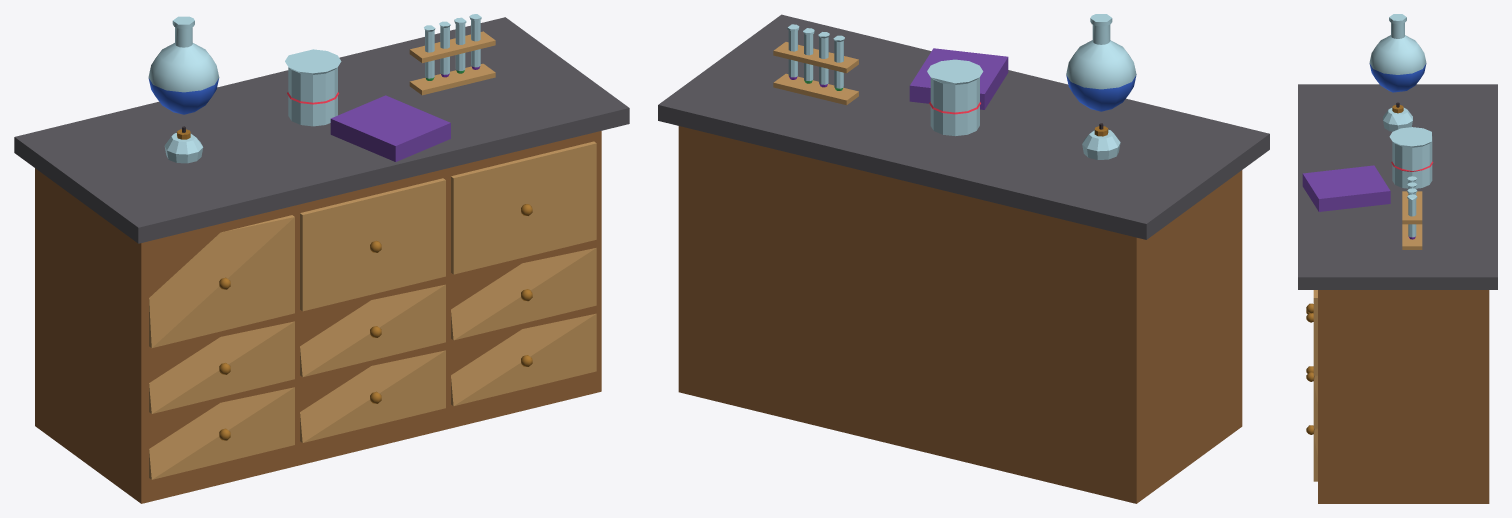
The model's file is lab-bench-pixor.glb.
3 views of the same model, side by side, from view 1: azimuth 30°, elevation 25°; view 2: azimuth 150°, elevation 25°; view 3: azimuth 270°, elevation 25° (orthographic). The views are drawn at different scales.
Visible parts, largest first — view 1: Bench drawers, Bench body, Bench top, Bench book, Bench flask, Bench beaker, Bench tube rack, Bench tubes, Bench knobs, Bench burner; view 2: Bench body, Bench top, Bench flask, Bench beaker, Bench book, Bench tube rack, Bench tubes, Bench burner; view 3: Bench body, Bench top, Bench book, Bench flask, Bench beaker, Bench tube rack, Bench drawers, Bench burner, Bench tubes, Bench knobs.
Part boxes in pixels (x1,y1,x2,y2): Bench drawers: [149, 141, 596, 479]; Bench body: [35, 131, 601, 503]; Bench top: [14, 17, 629, 243]; Bench book: [330, 95, 450, 161]; Bench flask: [148, 16, 219, 114]; Bench beaker: [285, 49, 341, 126]; Bench tube rack: [409, 31, 495, 95]; Bench tubes: [424, 14, 481, 80]; Bench knobs: [219, 204, 532, 440]; Bench burner: [164, 126, 203, 163]; Bench body: [678, 126, 1242, 503]; Bench top: [658, 14, 1269, 239]; Bench flask: [1066, 14, 1136, 111]; Bench beaker: [927, 59, 983, 136]; Bench book: [909, 48, 1008, 109]; Bench tube rack: [773, 42, 858, 105]; Bench tubes: [787, 24, 844, 90]; Bench burner: [1082, 123, 1120, 159]; Bench body: [1318, 290, 1489, 503]; Bench top: [1298, 84, 1497, 289]; Bench book: [1302, 165, 1390, 211]; Bench flask: [1369, 14, 1426, 92]; Bench beaker: [1389, 127, 1432, 188]; Bench tube rack: [1402, 191, 1422, 249]; Bench drawers: [1313, 290, 1317, 481]; Bench burner: [1383, 102, 1412, 131]; Bench tubes: [1407, 176, 1417, 239]; Bench knobs: [1306, 303, 1313, 434].
Size of the model in its own units: 1.6 by 1.32 by 0.7001.
